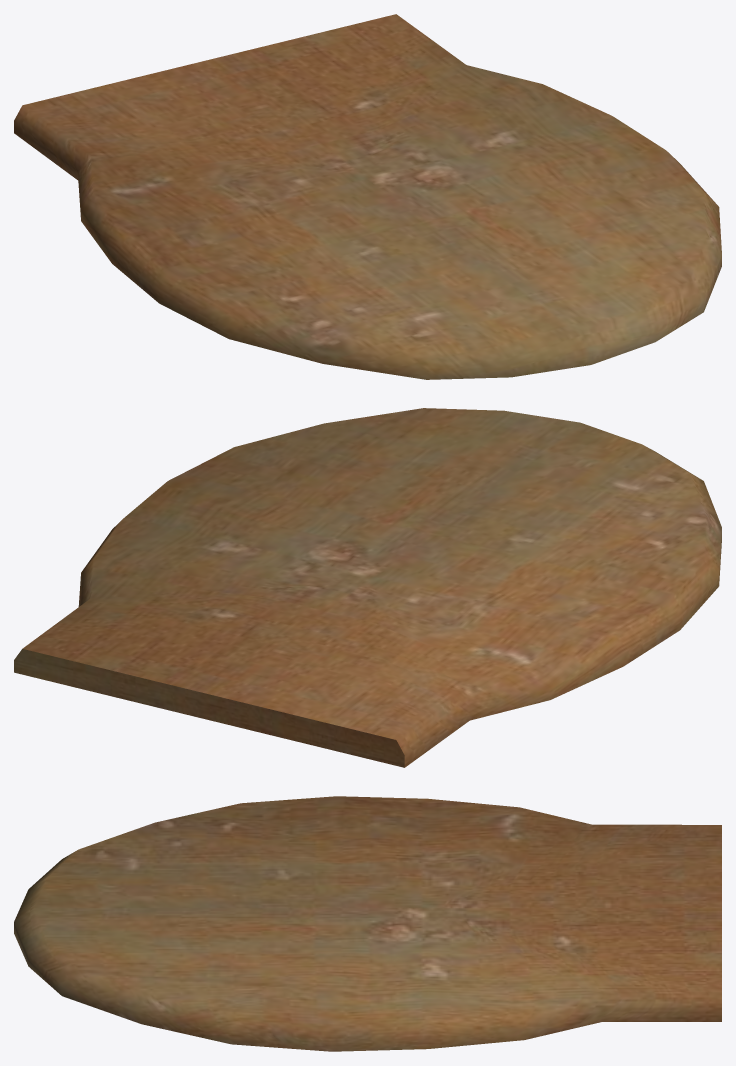
Rendered from furniture_frenchtoiletseatcover.glb.
3 views of the same model, one above another, from view 1: azimuth 30°, elevation 25°; view 2: azimuth 150°, elevation 25°; view 3: azimuth 270°, elevation 25° (orthographic). The views are drawn at different scales.
Size of the model in its own units: 18.21 by 0.8979 by 23.12.
1 material, 1 textured.
